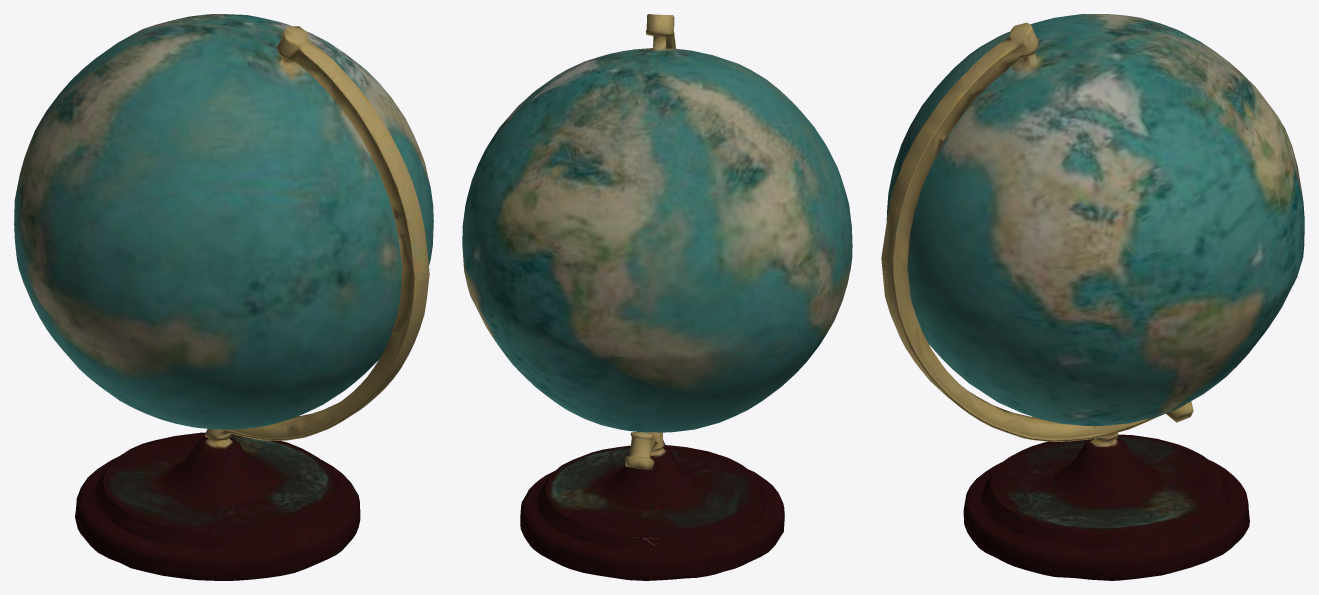
The model's file is globe-v2.glb.
3 views of the same model, side by side, from view 1: azimuth 30°, elevation 25°; view 2: azimuth 150°, elevation 25°; view 3: azimuth 270°, elevation 25° (orthographic). The views are drawn at different scales.
Visible parts, largest first — view 1: prop__globe; view 2: prop__globe; view 3: prop__globe.
Boxes of the visible parts, x1,y1,x2,y2 form: prop__globe: [14, 14, 433, 580]; prop__globe: [462, 14, 852, 580]; prop__globe: [881, 14, 1304, 580].
Size of the model in its own units: 0.3108 by 0.42 by 0.3135.
Materials: 1 (1 with a texture image).
